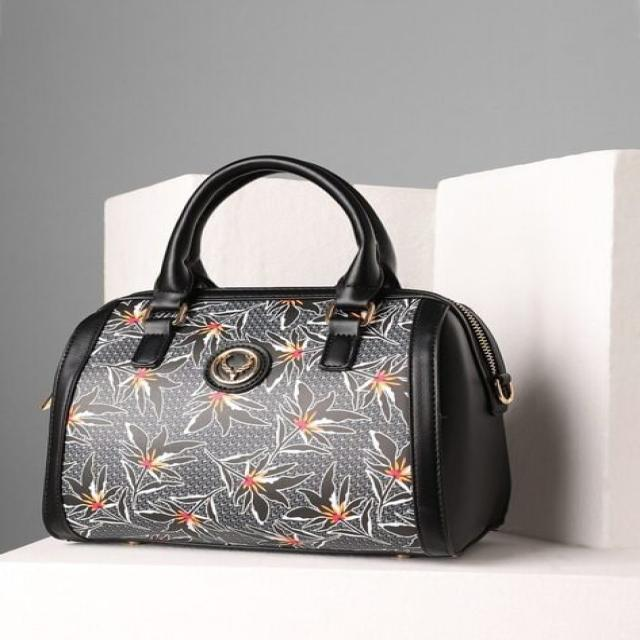handbag: (41, 153, 514, 559)
